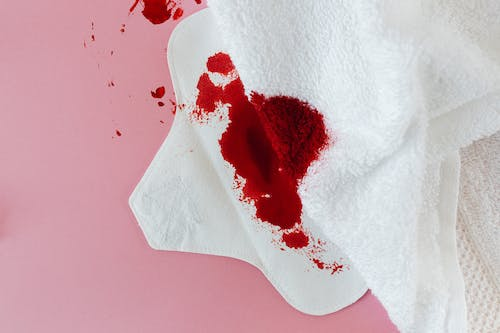blood: (178, 51, 352, 281), (83, 0, 203, 143)
